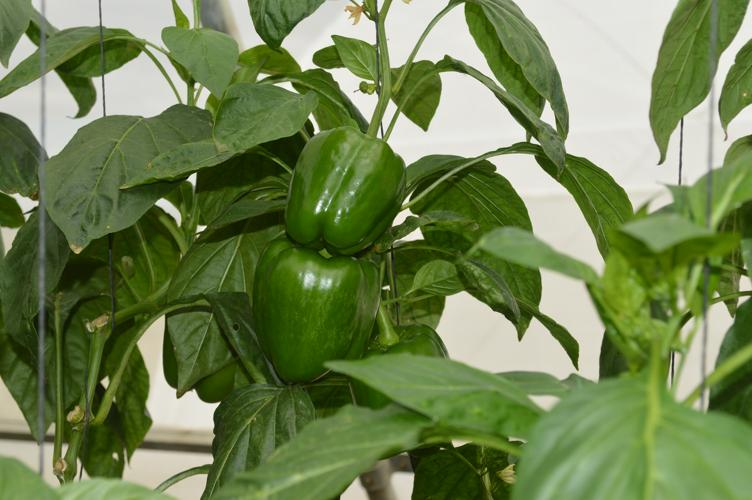BellPepper: (253, 242, 382, 382), (282, 128, 406, 257)
